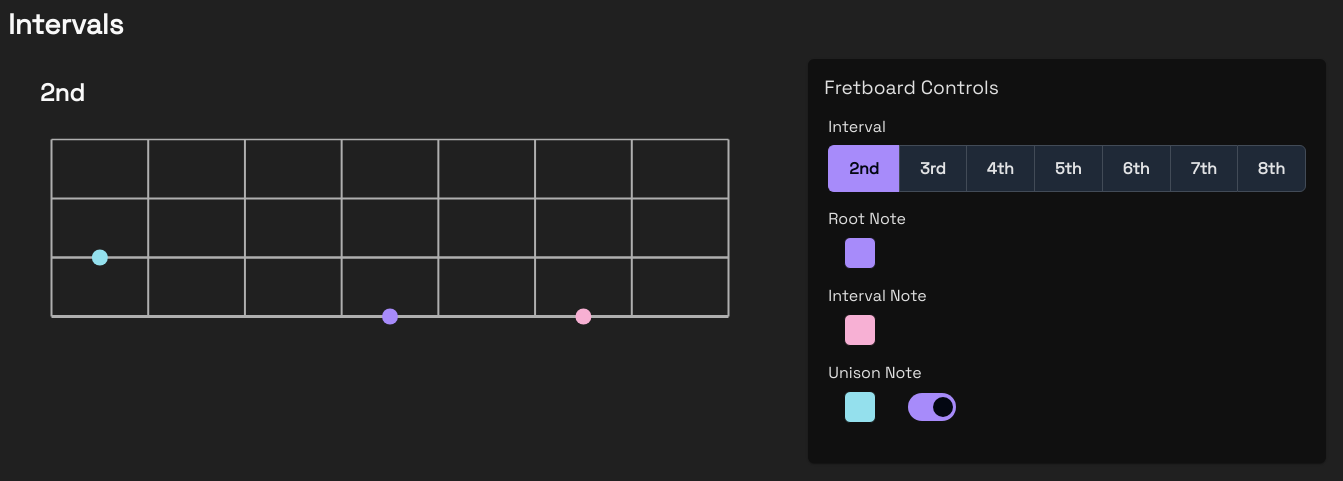
it: Intervals › interval selection › updates the subtitle when 4th is selected
What coordinates should you click on to do the following:
click the button "4th"
I would click on:
 (1000, 168)
Its box is [966,145,1034,192].
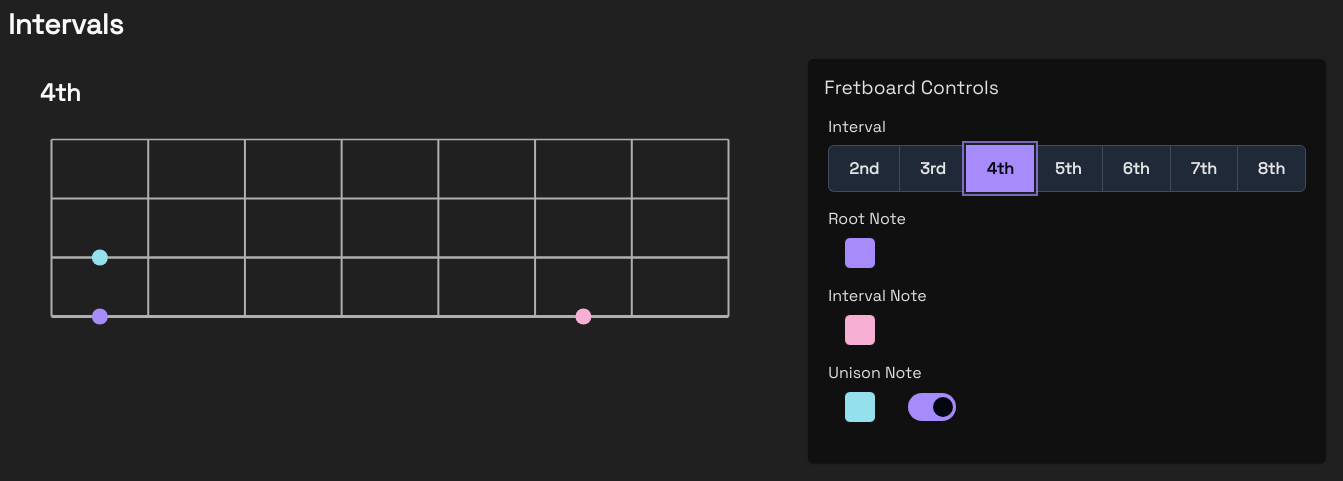
Check: the heading "4th" is shown, box [40,77,81,108]
